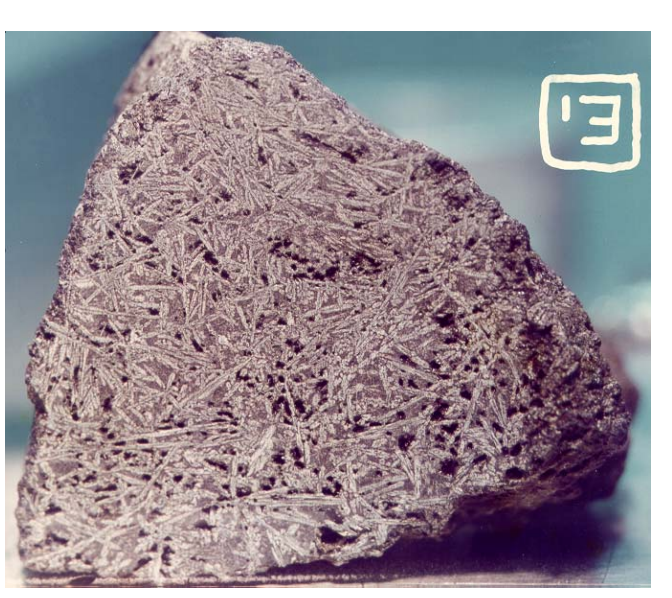Basalt: (7, 30, 608, 582), (130, 170, 527, 479)
